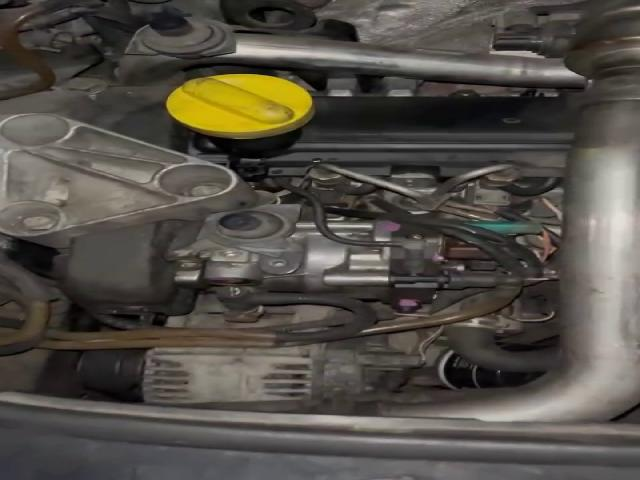alternator: (144, 344, 325, 404)
high_pressure_pump: (192, 220, 444, 312)
